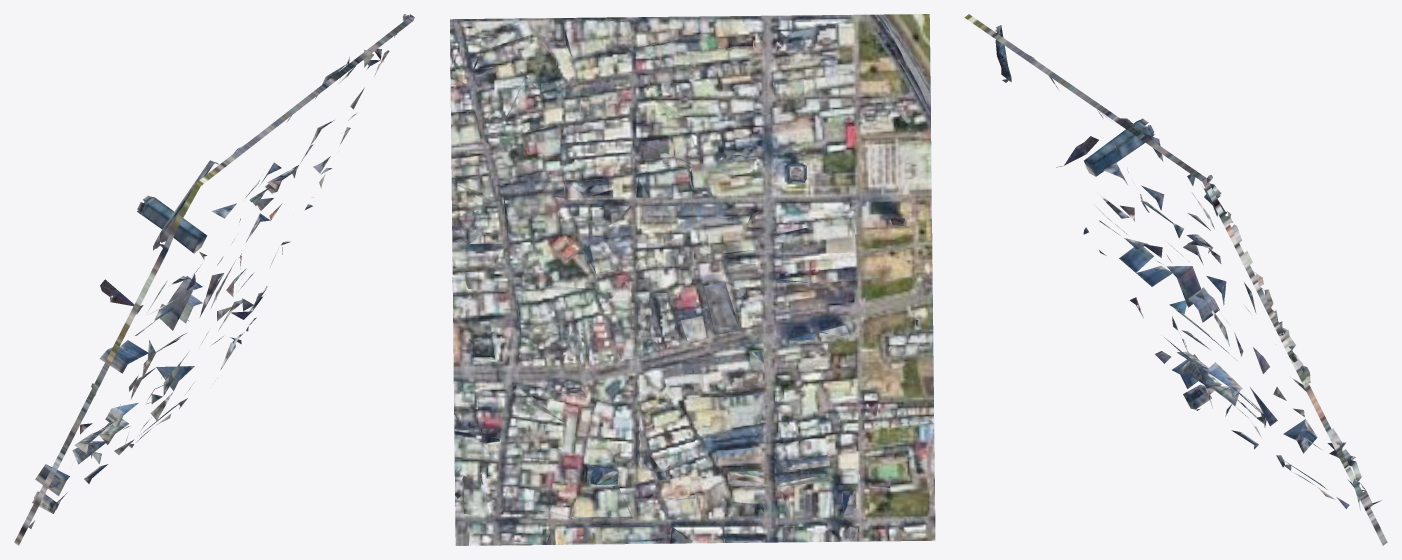
3 renders of one model, left to right at view 1: azimuth 30°, elevation 25°; view 2: azimuth 150°, elevation 25°; view 3: azimuth 270°, elevation 25°, orthographic. The views are drawn at different scales.
Size of the model in its own units: 1233 by 1122 by 1030.
1 material, 1 textured.
